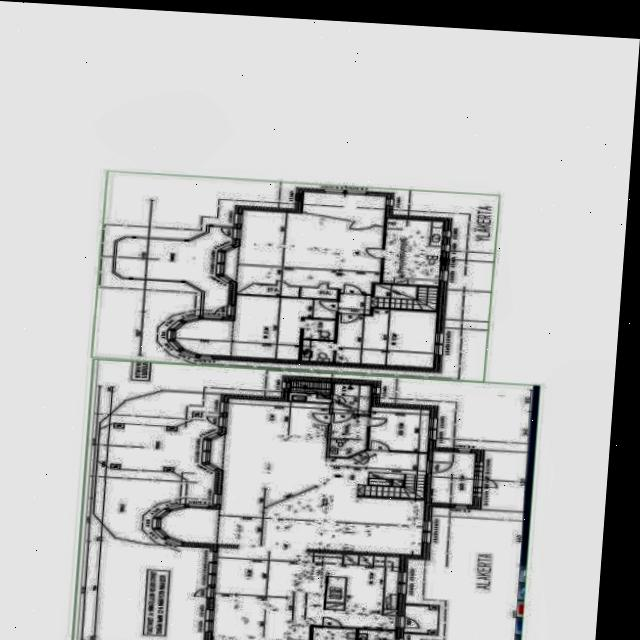room: (336, 306, 437, 368), (382, 216, 444, 286), (302, 189, 385, 226), (369, 406, 430, 452), (330, 413, 368, 457), (333, 383, 370, 414), (404, 604, 439, 633), (289, 379, 332, 402), (237, 282, 300, 297), (302, 339, 334, 362), (303, 318, 336, 340), (312, 626, 356, 640), (313, 298, 337, 318), (358, 628, 396, 640)
